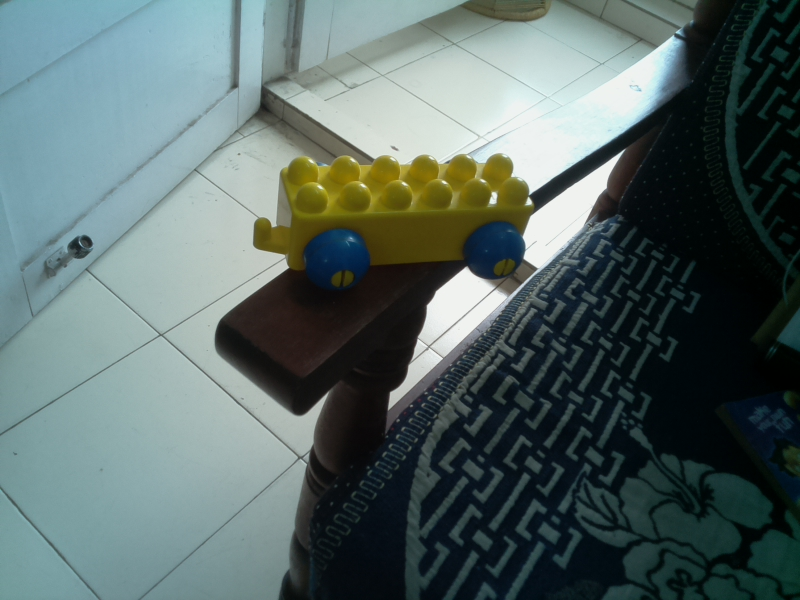toy_Car: (241, 139, 532, 297)
